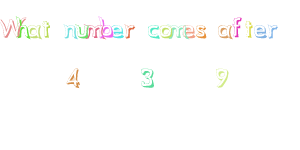3: (130, 61, 164, 96)
4: (59, 61, 88, 97)
9: (205, 59, 238, 95)
W: (1, 11, 25, 43)
a: (214, 20, 232, 43), (26, 21, 43, 41)
b: (98, 13, 114, 41)
c: (144, 19, 161, 41)
e: (108, 17, 123, 41), (181, 18, 196, 41), (253, 20, 268, 43)
f: (230, 13, 245, 38)
h: (14, 12, 32, 46)
m: (167, 18, 187, 40)
mm: (83, 19, 104, 42)
n: (60, 19, 77, 41)
o: (158, 20, 174, 41)
r: (266, 18, 282, 43), (122, 21, 139, 41)
s: (195, 18, 211, 41)
t: (40, 16, 55, 40), (243, 19, 254, 39)
u: (73, 20, 90, 40)
